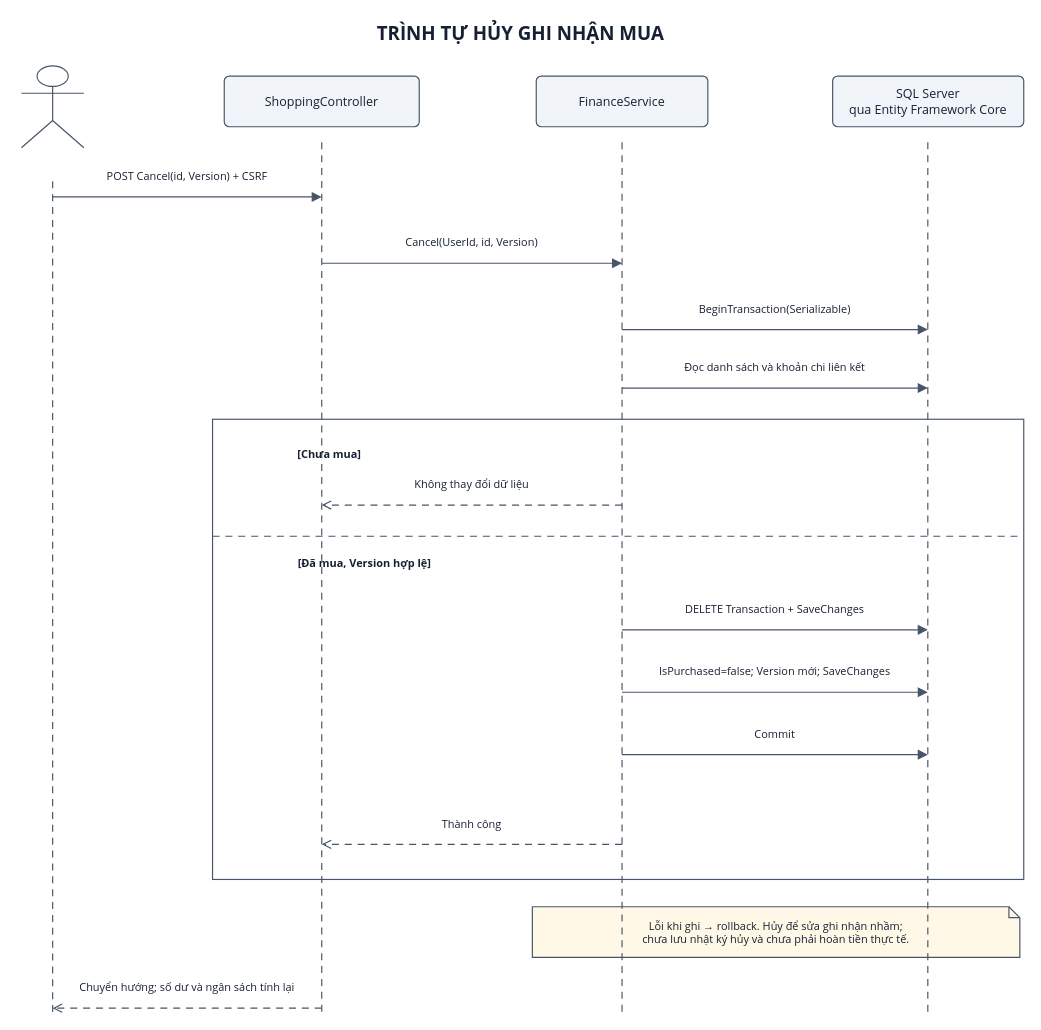
The diagram is 1041 pixels wide and 1030 high, and some of its shapes have lost their labels. Here are the shapes that lost their labels. From the top down, the box of each, then its label:
(21, 65, 84, 148): Người dùng
(212, 418, 1024, 880): alt
